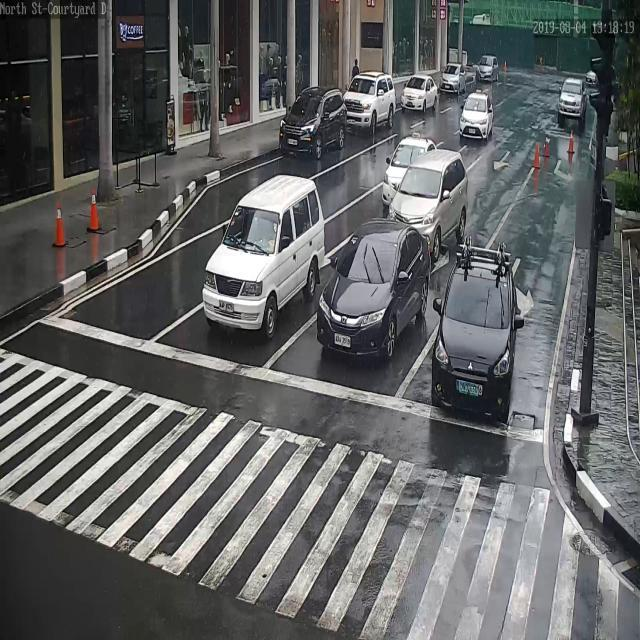car: (201, 173, 326, 336), (319, 218, 434, 367), (432, 250, 517, 413), (387, 144, 468, 256), (278, 86, 348, 156), (382, 136, 437, 207), (343, 74, 396, 132), (460, 91, 495, 139), (400, 73, 438, 112), (558, 76, 589, 119), (441, 62, 466, 93), (477, 54, 499, 84)
